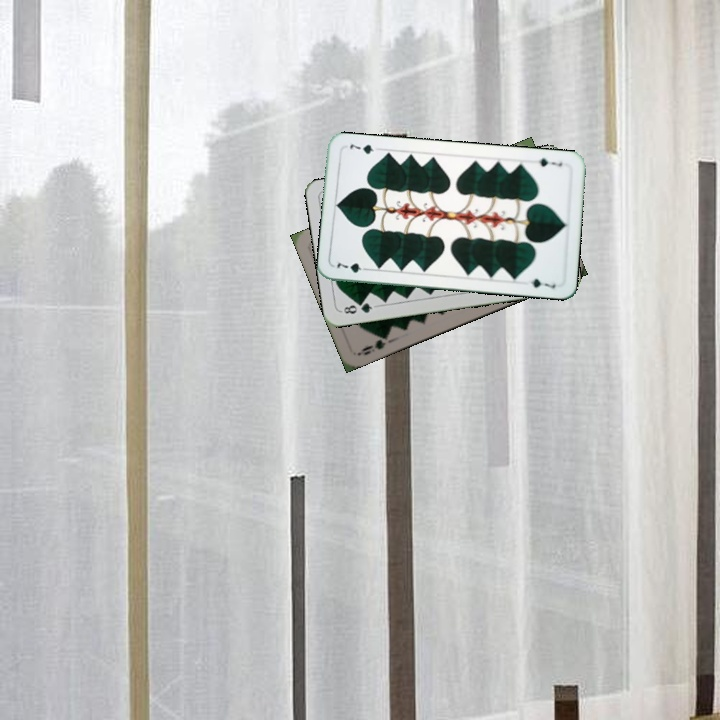G7: (333, 259, 372, 275), (535, 154, 565, 169)
G8: (338, 298, 378, 317)
G9: (355, 330, 391, 358)
